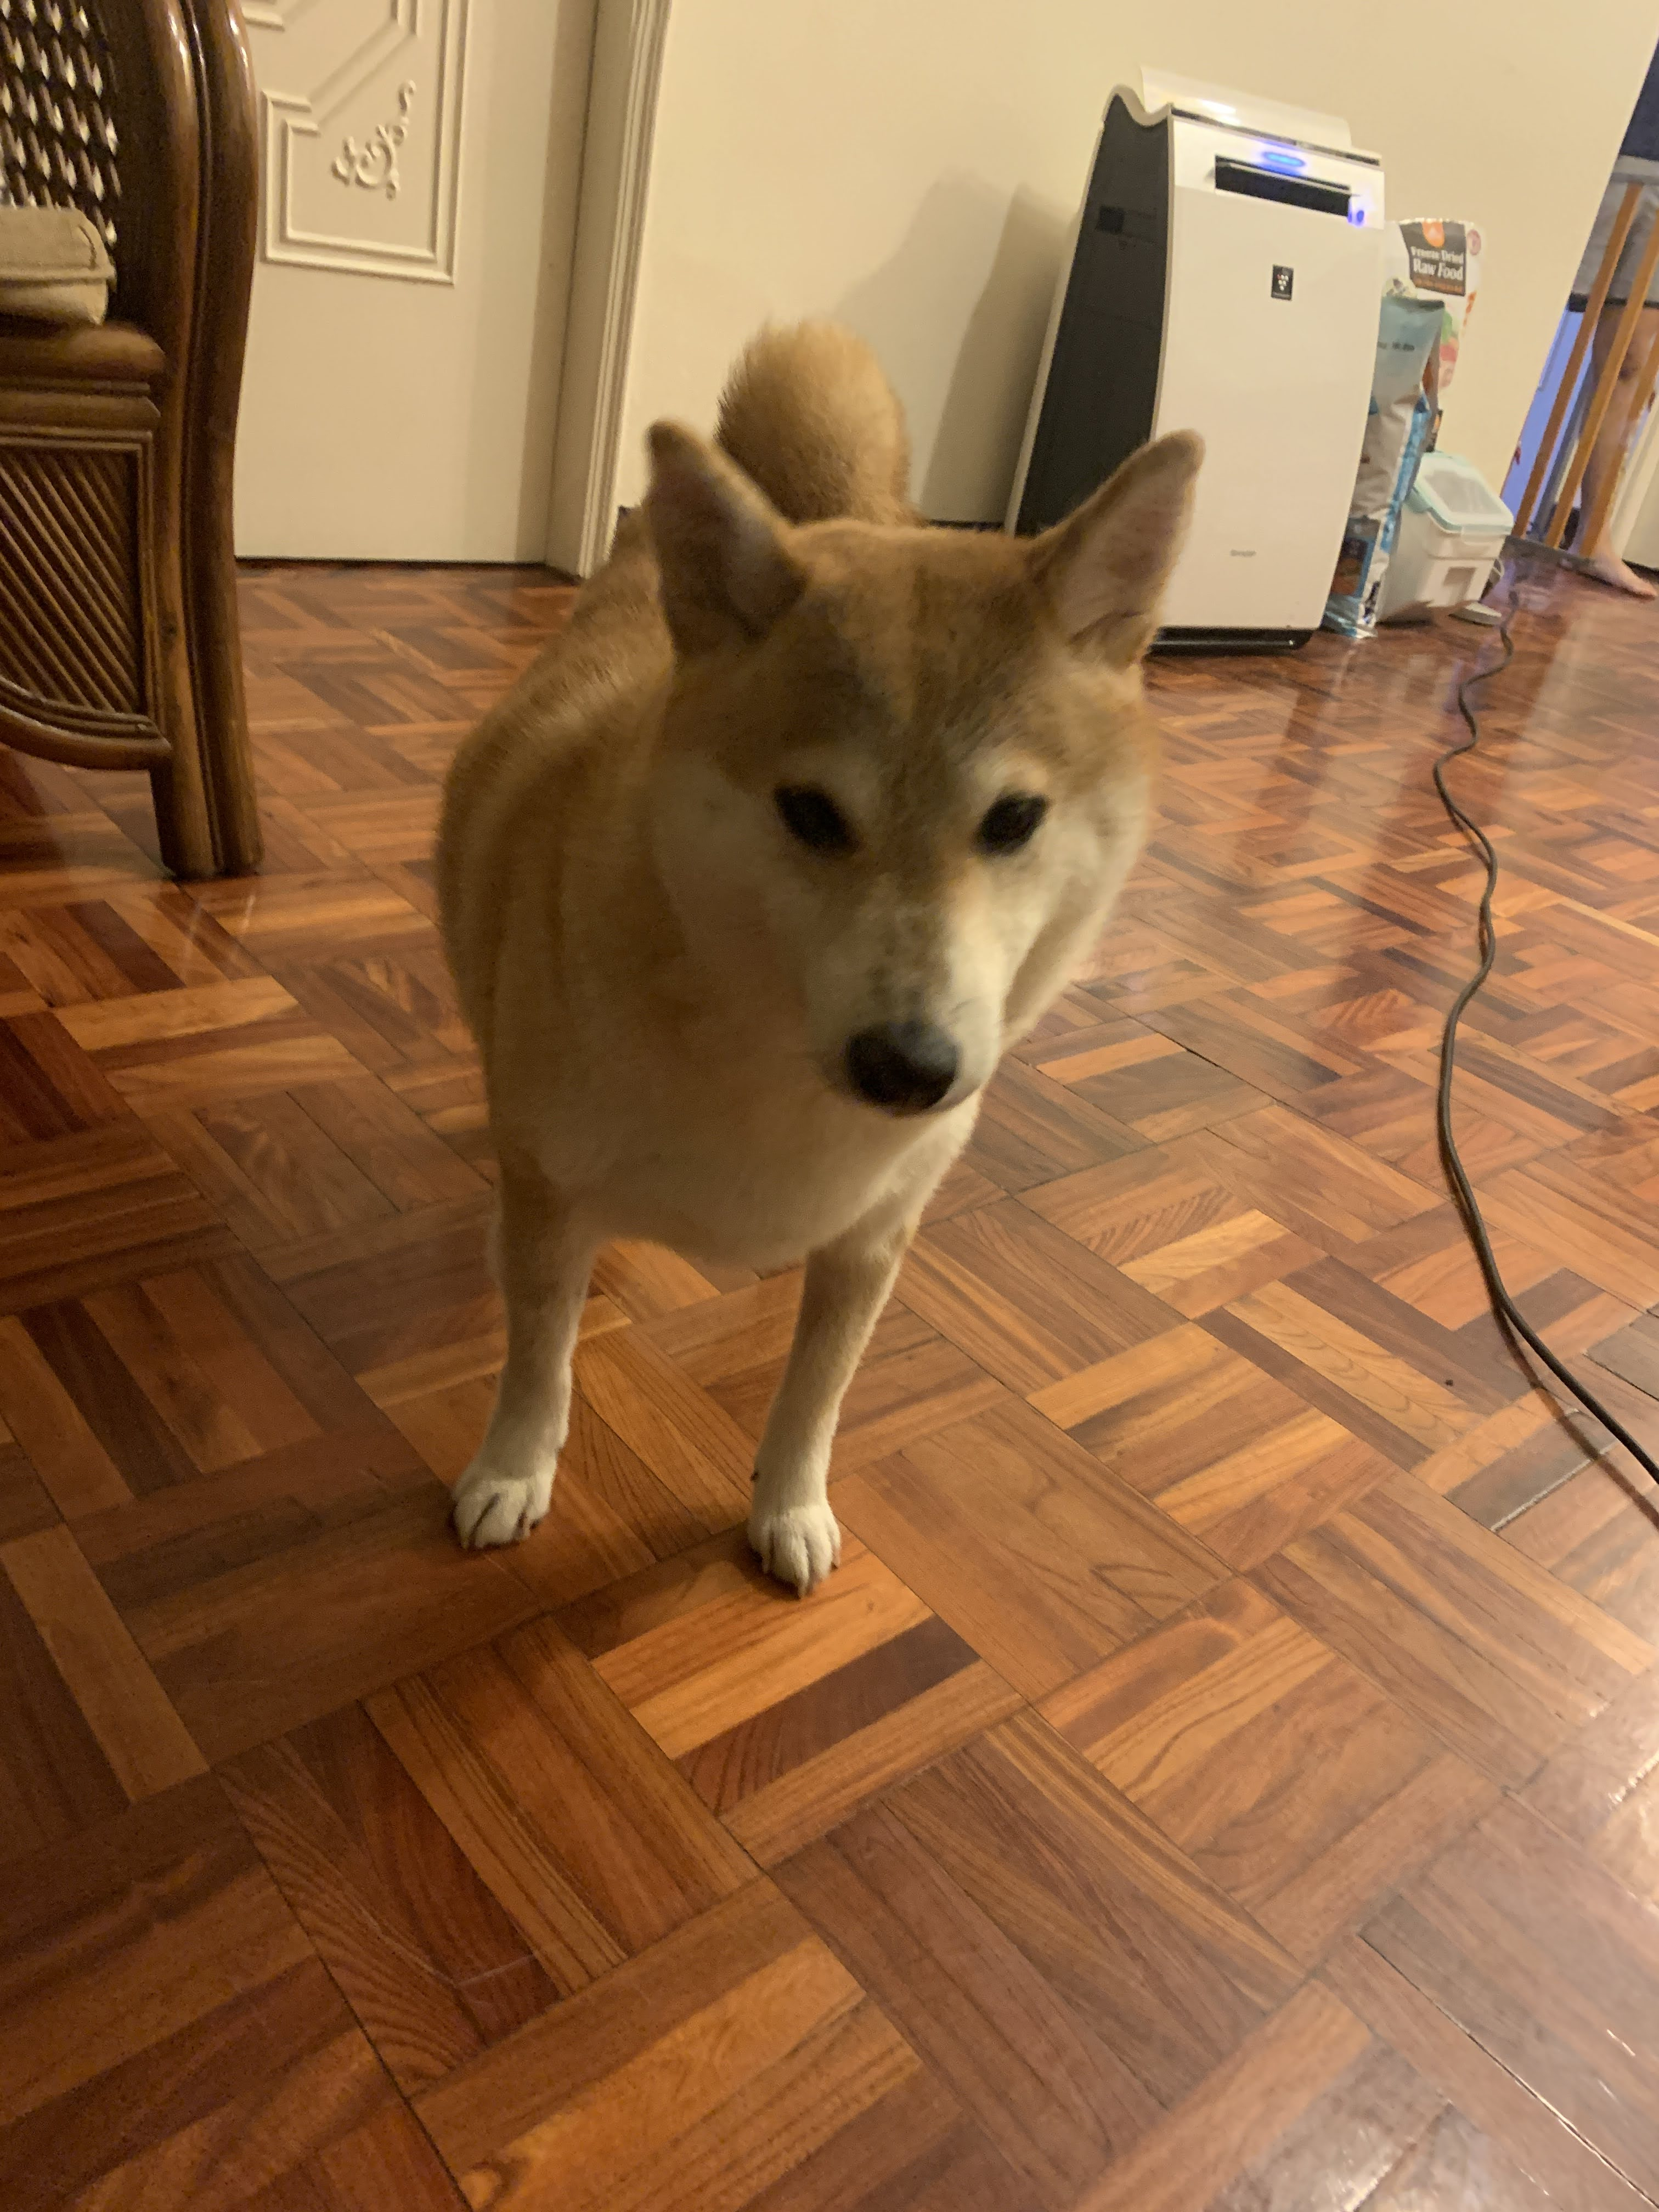Stand up: (444, 261, 1199, 1663)
